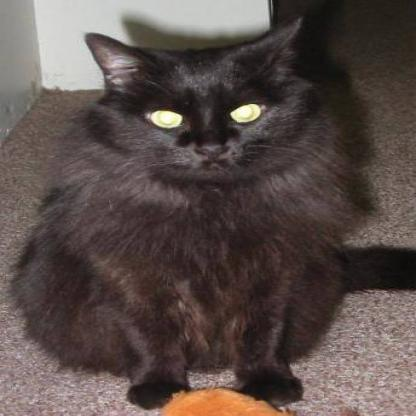cat: (50, 25, 339, 352)
